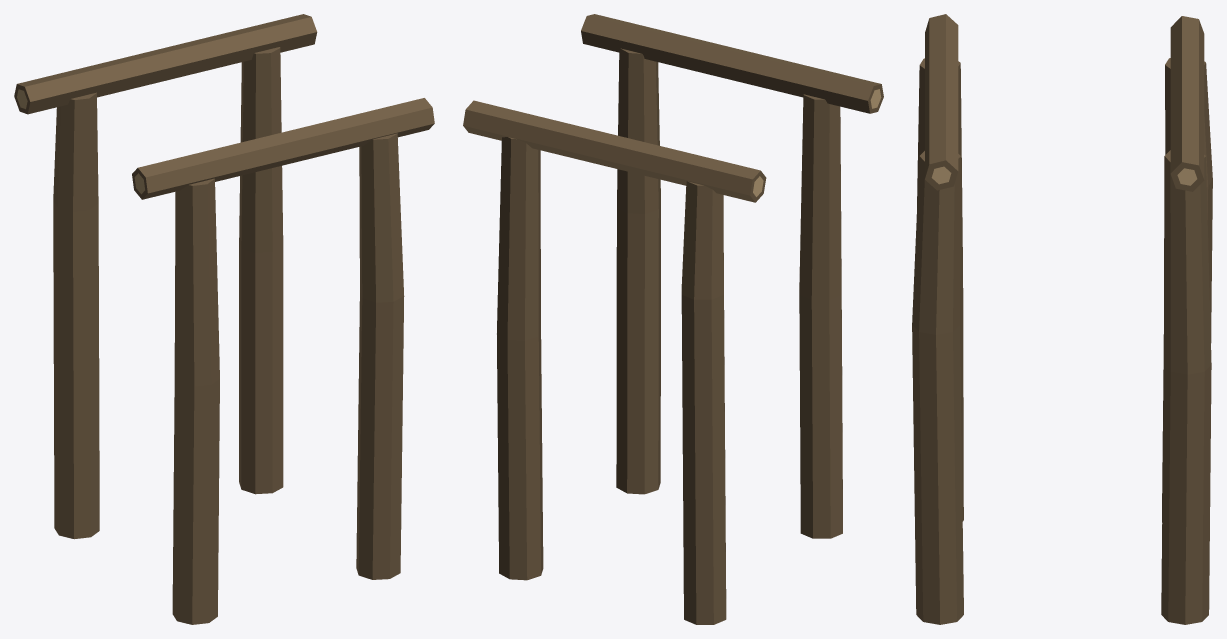
File: rpgpp_ag_wall_platform_03_support_01a_4m .fbx
The picture shows the model from 3 angles, left to right: view 1: azimuth 30°, elevation 25°; view 2: azimuth 150°, elevation 25°; view 3: azimuth 270°, elevation 25°; orthographic projection. The views are drawn at different scales.
Parts seen in each view (by area): view 1: rpgpp_ag_wall_platform_03_support_01a_4m; view 2: rpgpp_ag_wall_platform_03_support_01a_4m; view 3: rpgpp_ag_wall_platform_03_support_01a_4m.
Part boxes in pixels (x1=…): rpgpp_ag_wall_platform_03_support_01a_4m: x1=14, y1=14, x2=434, y2=624; rpgpp_ag_wall_platform_03_support_01a_4m: x1=463, y1=14, x2=883, y2=624; rpgpp_ag_wall_platform_03_support_01a_4m: x1=912, y1=14, x2=1212, y2=624.
Size of the model in its own units: 2.55 by 3.9 by 2.22.
